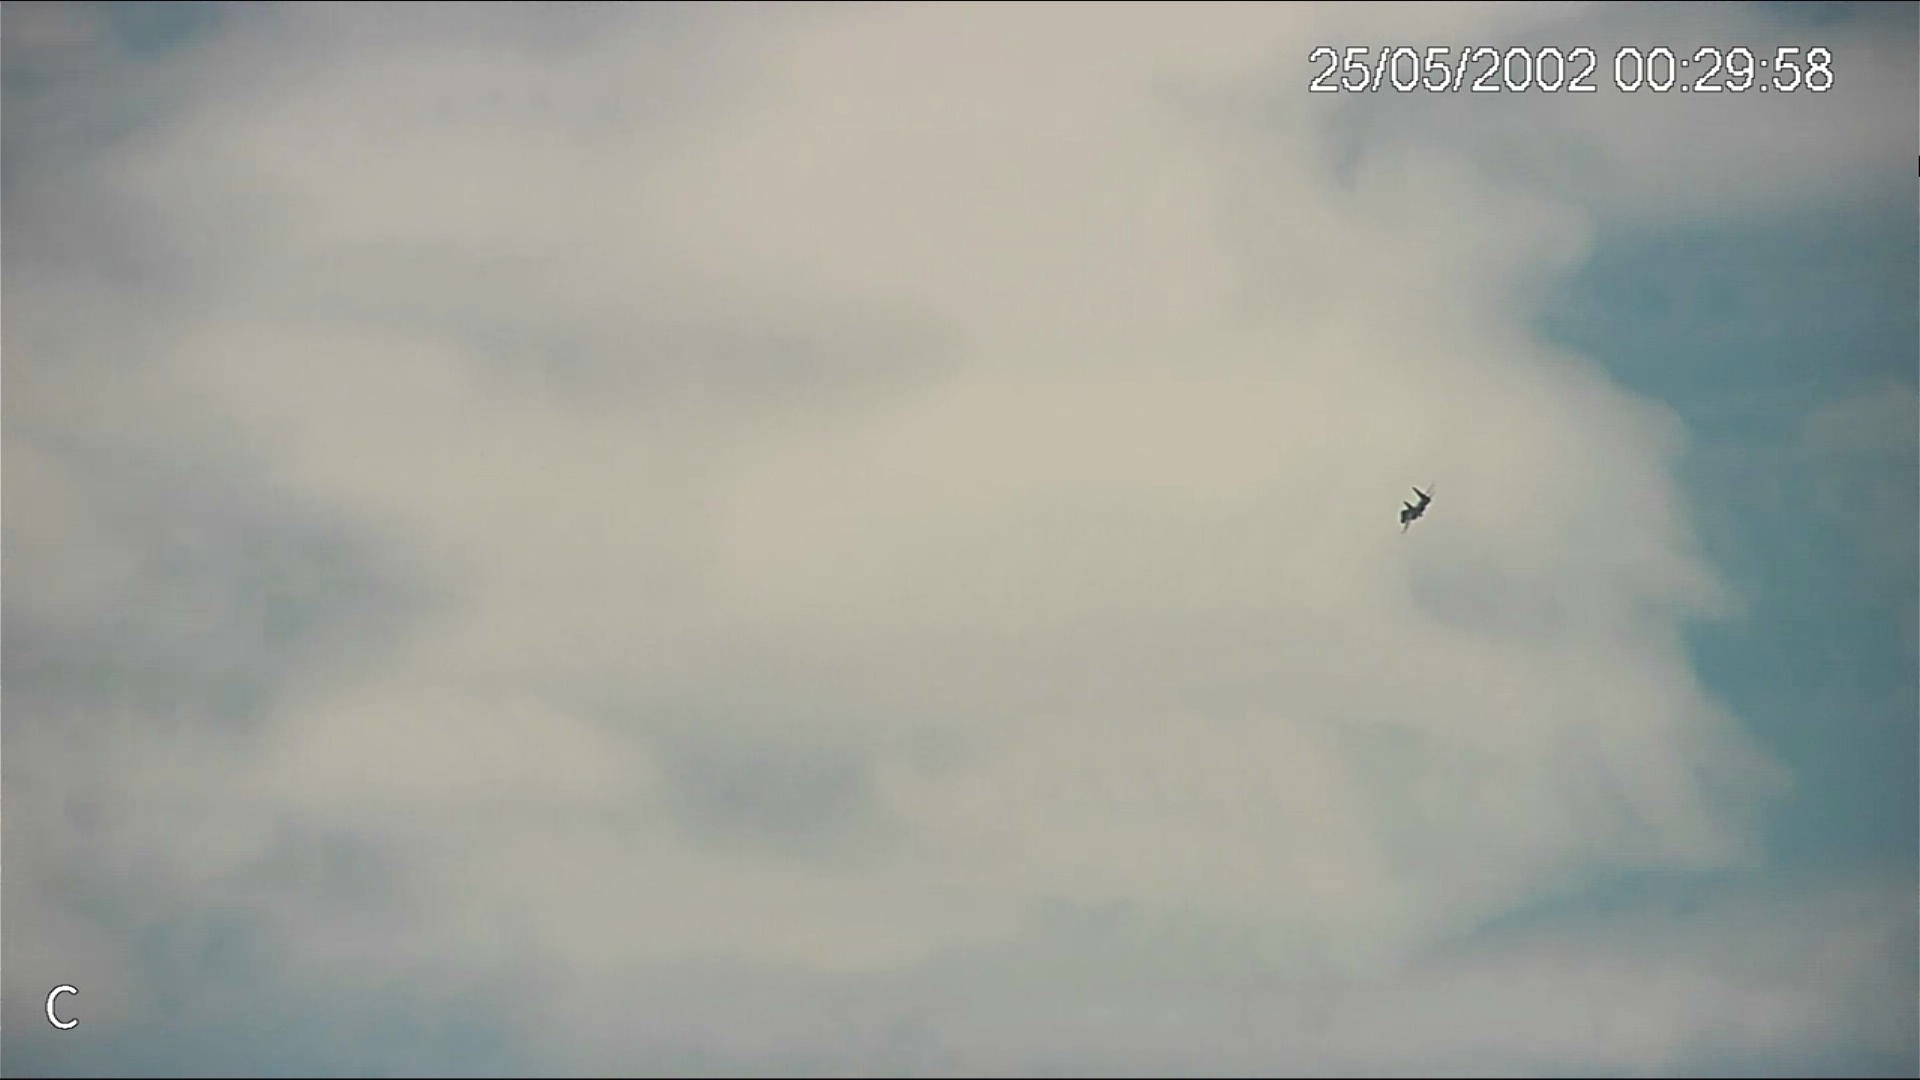SU_30: (1396, 485, 1433, 534)
